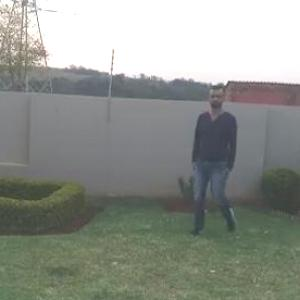follow: (187, 84, 238, 240)
